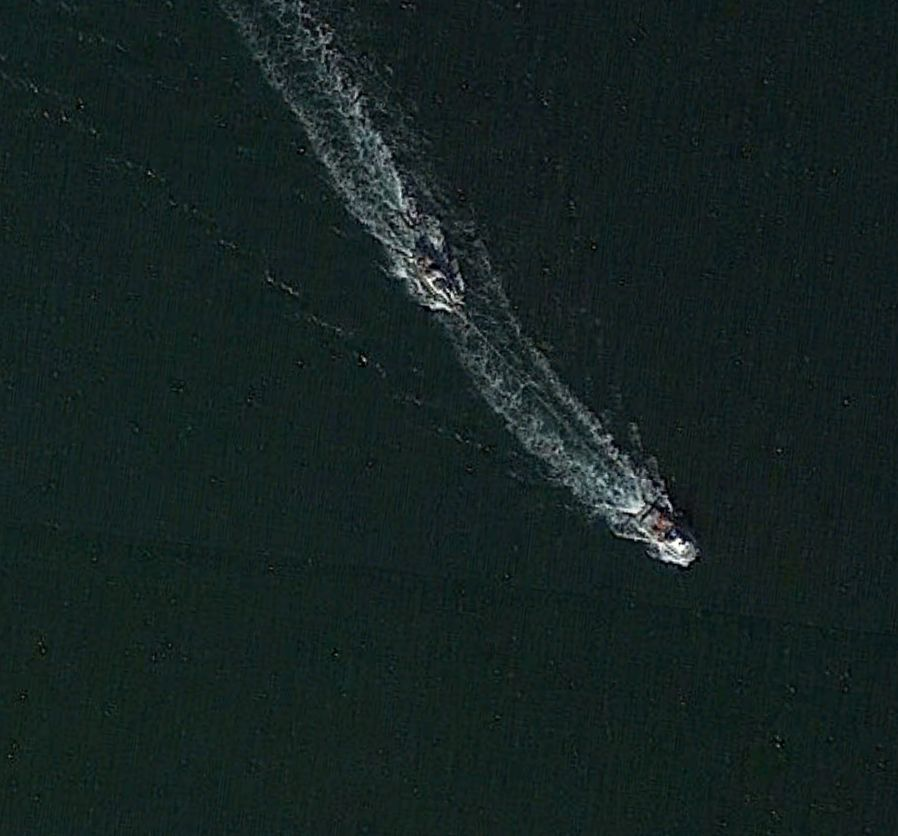boat: (632, 500, 701, 568), (405, 245, 466, 315)
